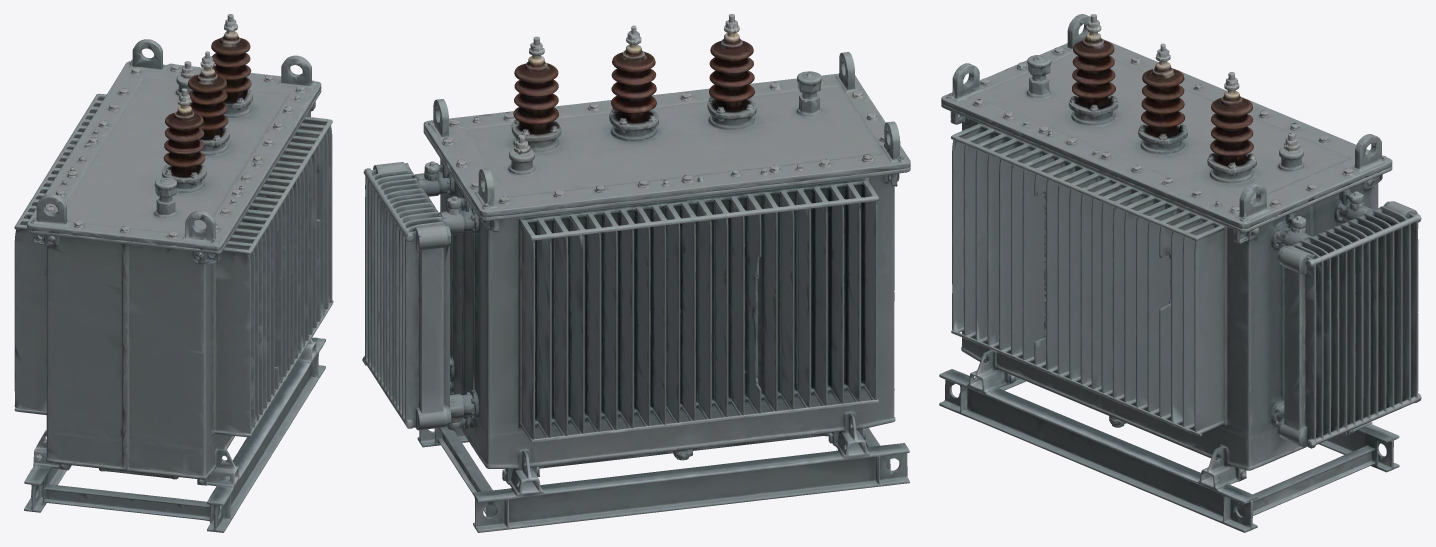
File: transformer.glb
The picture shows the model from 3 angles, left to right: view 1: azimuth 30°, elevation 25°; view 2: azimuth 150°, elevation 25°; view 3: azimuth 270°, elevation 25°; orthographic projection. The views are drawn at different scales.
Parts seen in each view (by area): view 1: tripo_node_65c74c9b-b226-498a-bac6-7ee8d2af9a8a; view 2: tripo_node_65c74c9b-b226-498a-bac6-7ee8d2af9a8a; view 3: tripo_node_65c74c9b-b226-498a-bac6-7ee8d2af9a8a.
Part boxes in pixels (box(x1,y1,x2,y2)): tripo_node_65c74c9b-b226-498a-bac6-7ee8d2af9a8a: box(14, 14, 333, 532); tripo_node_65c74c9b-b226-498a-bac6-7ee8d2af9a8a: box(362, 14, 910, 532); tripo_node_65c74c9b-b226-498a-bac6-7ee8d2af9a8a: box(939, 14, 1421, 532).
Size of the model in its own units: 31117 by 29130 by 31230.
Materials: 1 (1 with a texture image).
